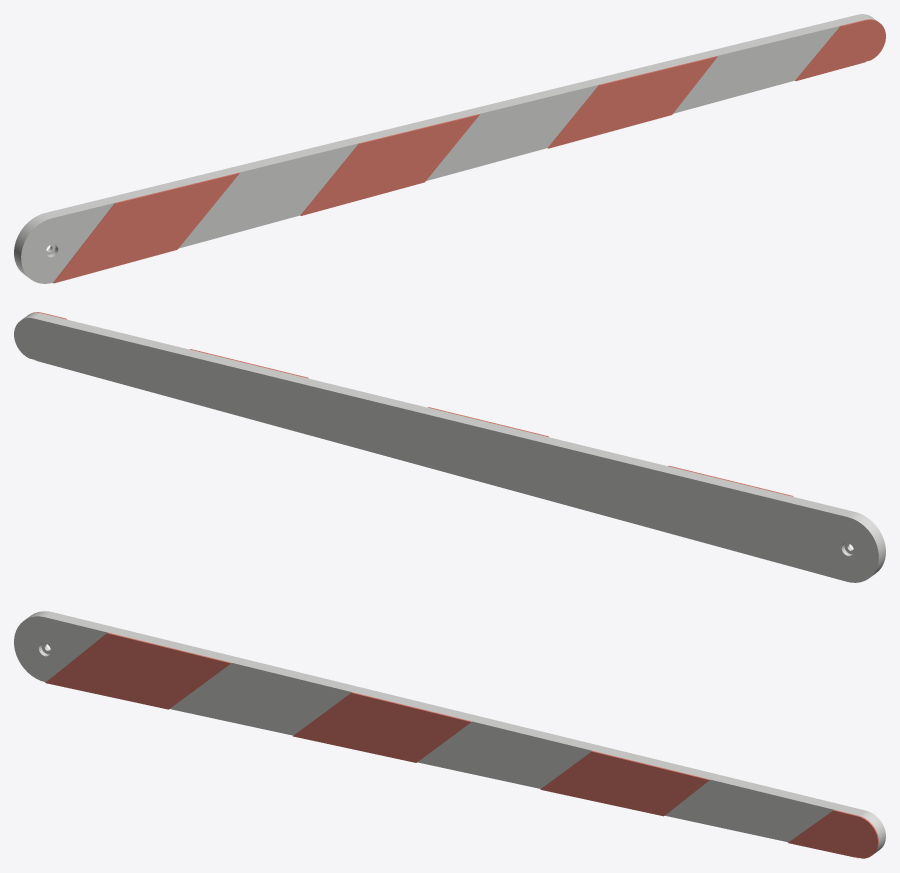
The model's file is RR Barrier.dae.
3 views of the same model, one above another, from view 1: azimuth 30°, elevation 25°; view 2: azimuth 150°, elevation 25°; view 3: azimuth 330°, elevation 25° (orthographic).
Visible parts, largest first — view 1: RR Barrier only; view 2: RR Barrier only; view 3: RR Barrier only.
Part boxes in pixels (left/top/right/bottom): RR Barrier only: left=14, top=14, right=885, bottom=283; RR Barrier only: left=14, top=312, right=885, bottom=582; RR Barrier only: left=14, top=611, right=885, bottom=858.
Size of the model in its own units: 0.2794 by 0.0045 by 0.02.
